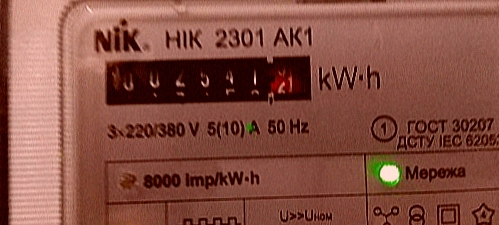0: (118, 66, 136, 92), (146, 62, 160, 90)
1: (246, 59, 259, 86)
2: (170, 62, 186, 87)
4: (222, 60, 235, 84)
5: (195, 61, 213, 89)
6: (273, 76, 288, 94)
screen: (92, 41, 326, 115)
